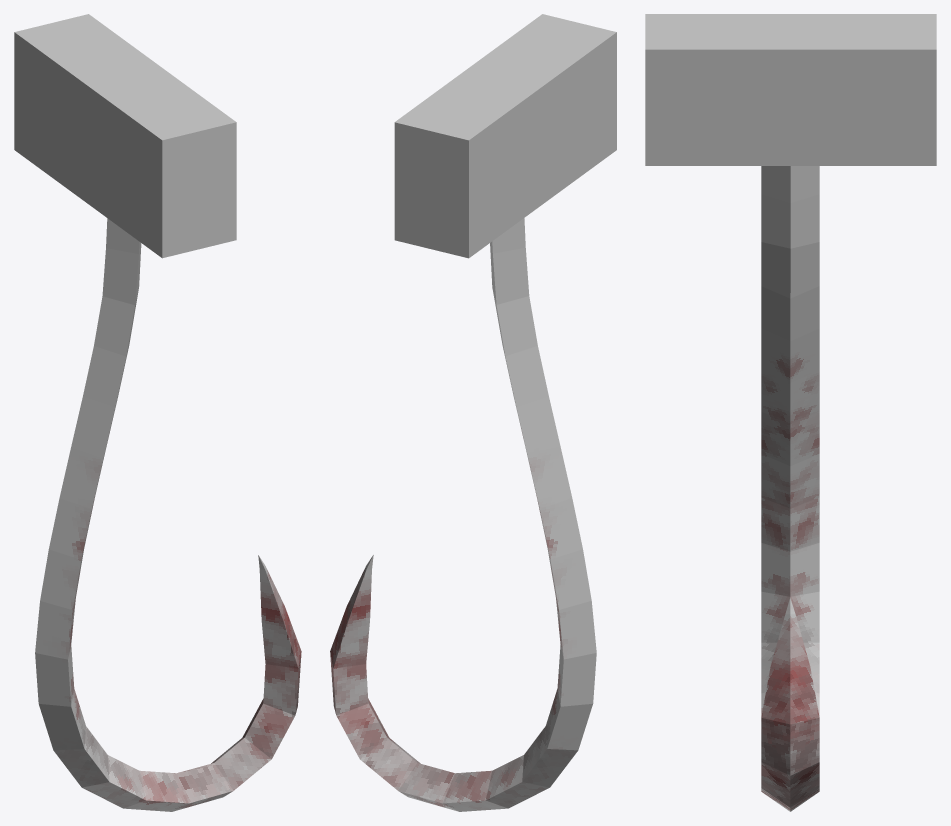
The model's file is PIG_meat_hook.glb.
The picture shows the model from 3 angles, left to right: view 1: azimuth 30°, elevation 25°; view 2: azimuth 150°, elevation 25°; view 3: azimuth 270°, elevation 25°; orthographic projection.
Parts seen in each view (by area): view 1: Cylinder; view 2: Cylinder; view 3: Cylinder.
Boxes of the visible parts, <box> form: Cylinder: <box>14,14,301,811</box>; Cylinder: <box>330,14,616,811</box>; Cylinder: <box>645,14,936,811</box>.
Bounding box in the file's own units: 0.5958 × 1.59 × 0.5725.
1 material, 1 textured.
